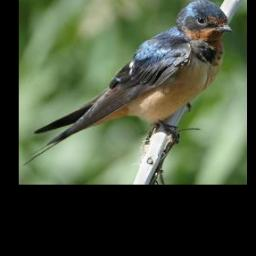Swallow: (21, 0, 235, 168)
